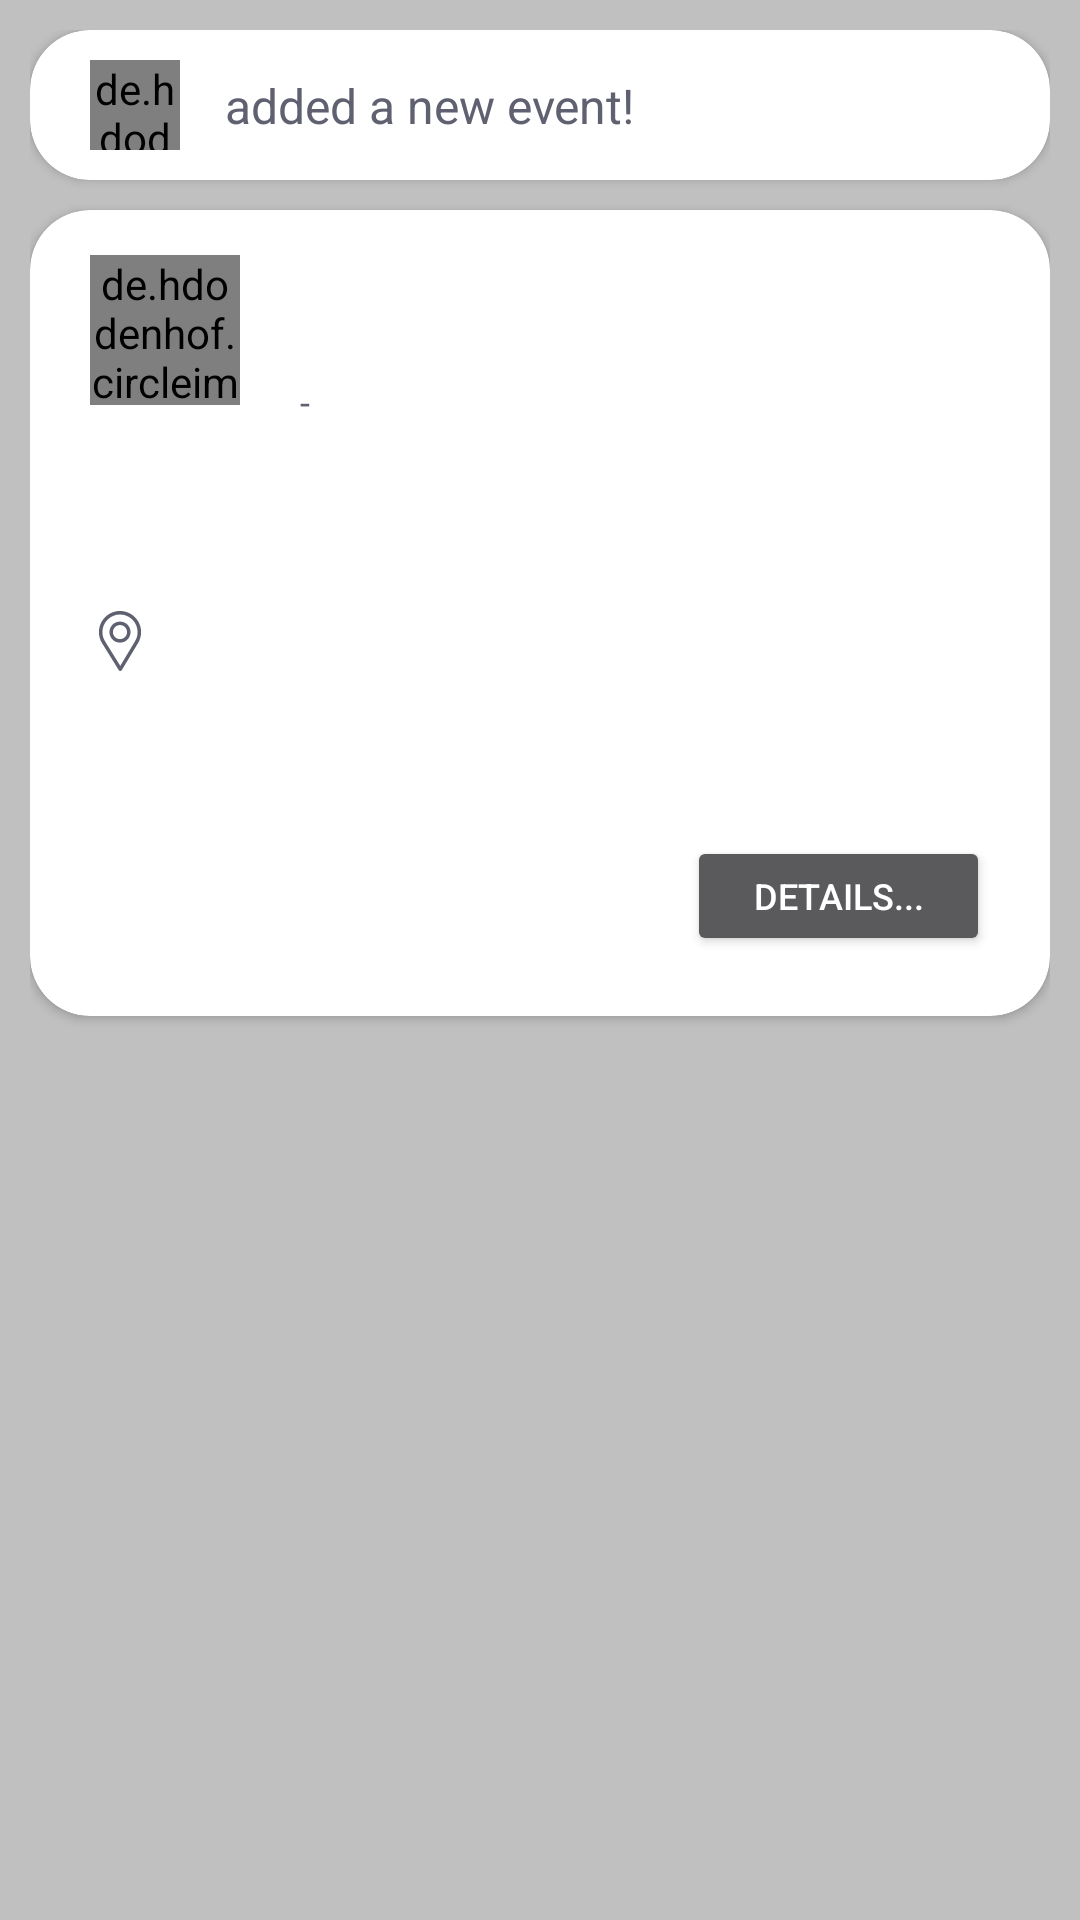

Icons on this 1080×1920 Android screen, each with its box as (x1, y1, x2, y2):
location: (99, 611, 141, 671)
